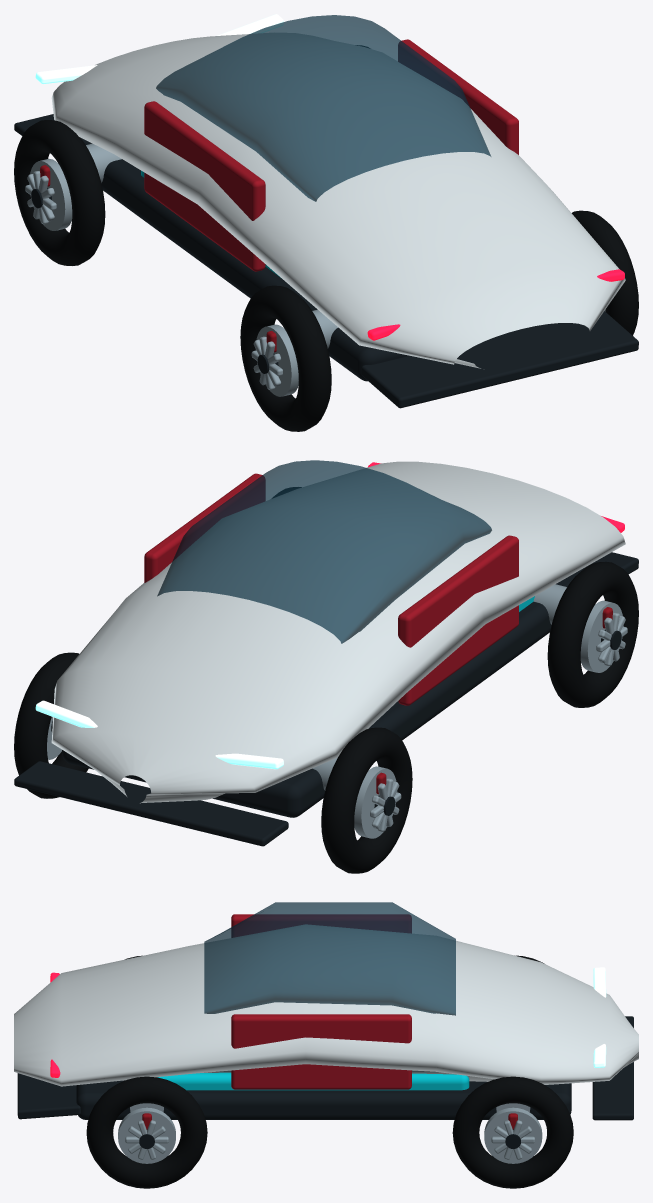
The model's file is ion_vector.glb.
3 views of the same model, one above another, from view 1: azimuth 30°, elevation 25°; view 2: azimuth 150°, elevation 25°; view 3: azimuth 270°, elevation 25° (orthographic). The views are drawn at different scales.
Visible parts, largest first — view 1: meet_mesh__monocoque__continuous_aero_shell, meet_mesh__canopy__single_piece_glasshouse, meet_mesh__rear_diffuser__venturi_plane, meet_mesh__wheel_left_1.45__tire, meet_mesh__wheel_left_-1.55__tire, meet_mesh__left_door__scissor_shell, meet_mesh__chassis__lower_frame, meet_mesh__right_door__scissor_shell, meet_mesh__wheel_right_1.45__tire, meet_mesh__wheel_left_-1.55__brake_disc, meet_mesh__wheel_left_1.45__brake_disc, meet_mesh__headlamps__laser_blade_-0.68 (+1 smaller); view 2: meet_mesh__monocoque__continuous_aero_shell, meet_mesh__canopy__single_piece_glasshouse, meet_mesh__chassis__lower_frame, meet_mesh__wheel_left_-1.55__tire, meet_mesh__wheel_left_1.45__tire, meet_mesh__front_splitter__aero_plane, meet_mesh__left_door__scissor_shell, meet_mesh__wheel_right_-1.55__tire, meet_mesh__right_door__scissor_shell, meet_mesh__wheel_left_-1.55__brake_disc, meet_mesh__wheel_left_1.45__brake_disc, meet_mesh__headlamps__laser_blade_0.68 (+2 smaller); view 3: meet_mesh__monocoque__continuous_aero_shell, meet_mesh__canopy__single_piece_glasshouse, meet_mesh__chassis__lower_frame, meet_mesh__right_door__scissor_shell, meet_mesh__wheel_right_1.45__tire, meet_mesh__wheel_right_-1.55__tire, meet_mesh__left_door__scissor_shell, meet_mesh__battery_pack__structural_cells, meet_mesh__rear_diffuser__venturi_plane, meet_mesh__front_splitter__aero_plane, meet_mesh__wheel_right_1.45__brake_disc, meet_mesh__wheel_right_-1.55__brake_disc.
Part boxes in pixels (x1,y1,x2,y2): meet_mesh__monocoque__continuous_aero_shell: (51, 33, 625, 368); meet_mesh__canopy__single_piece_glasshouse: (156, 15, 491, 201); meet_mesh__rear_diffuser__venturi_plane: (361, 311, 638, 408); meet_mesh__wheel_left_1.45__tire: (240, 285, 331, 431); meet_mesh__wheel_left_-1.55__tire: (14, 120, 105, 265); meet_mesh__left_door__scissor_shell: (144, 101, 265, 271); meet_mesh__chassis__lower_frame: (80, 137, 409, 381); meet_mesh__right_door__scissor_shell: (398, 39, 518, 154); meet_mesh__wheel_right_1.45__tire: (572, 210, 638, 335); meet_mesh__wheel_left_-1.55__brake_disc: (29, 159, 72, 230); meet_mesh__wheel_left_1.45__brake_disc: (255, 324, 298, 396); meet_mesh__headlamps__laser_blade_-0.68: (35, 65, 97, 84); meet_mesh__monocoque__continuous_aero_shell: (51, 461, 625, 803); meet_mesh__canopy__single_piece_glasshouse: (157, 460, 491, 643); meet_mesh__chassis__lower_frame: (62, 567, 585, 817); meet_mesh__wheel_left_-1.55__tire: (321, 727, 412, 873); meet_mesh__wheel_left_1.45__tire: (547, 561, 638, 707); meet_mesh__front_splitter__aero_plane: (14, 761, 288, 846); meet_mesh__left_door__scissor_shell: (398, 535, 518, 705); meet_mesh__wheel_right_-1.55__tire: (14, 652, 88, 798); meet_mesh__right_door__scissor_shell: (144, 473, 265, 582); meet_mesh__wheel_left_-1.55__brake_disc: (354, 766, 397, 838); meet_mesh__wheel_left_1.45__brake_disc: (580, 600, 623, 672); meet_mesh__headlamps__laser_blade_0.68: (35, 700, 97, 727); meet_mesh__monocoque__continuous_aero_shell: (14, 924, 638, 1086); meet_mesh__canopy__single_piece_glasshouse: (204, 902, 455, 1015); meet_mesh__chassis__lower_frame: (76, 1080, 571, 1119); meet_mesh__right_door__scissor_shell: (231, 1014, 411, 1089); meet_mesh__wheel_right_1.45__tire: (86, 1076, 207, 1188); meet_mesh__wheel_right_-1.55__tire: (452, 1076, 573, 1188); meet_mesh__left_door__scissor_shell: (231, 914, 411, 937); meet_mesh__battery_pack__structural_cells: (157, 1072, 469, 1090); meet_mesh__rear_diffuser__venturi_plane: (17, 1073, 80, 1119); meet_mesh__front_splitter__aero_plane: (592, 1016, 633, 1120); meet_mesh__wheel_right_1.45__brake_disc: (118, 1107, 175, 1163); meet_mesh__wheel_right_-1.55__brake_disc: (484, 1107, 542, 1163).
Size of the model in its own units: 2.71 by 1.88 by 5.12.
